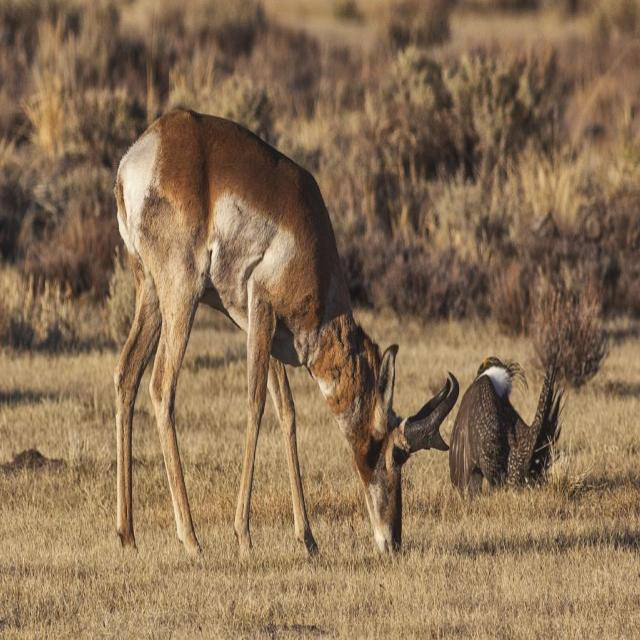Deer: (112, 104, 457, 558)
